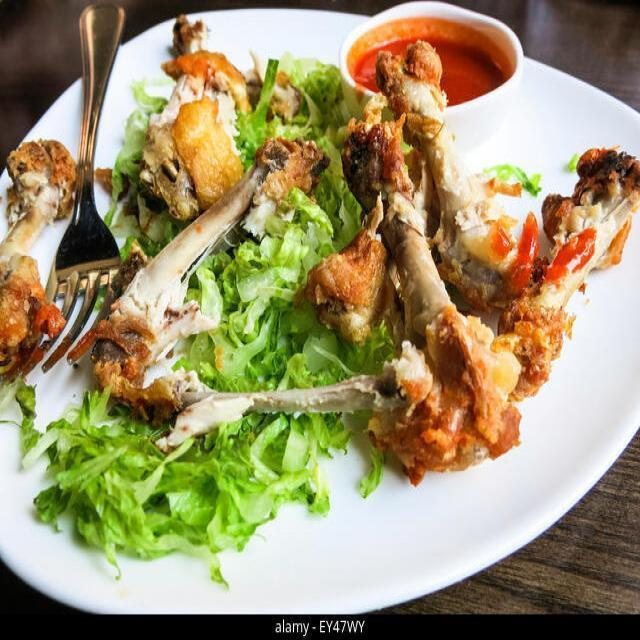cardboard: (0, 1, 638, 618)
cups: (338, 0, 524, 151)
